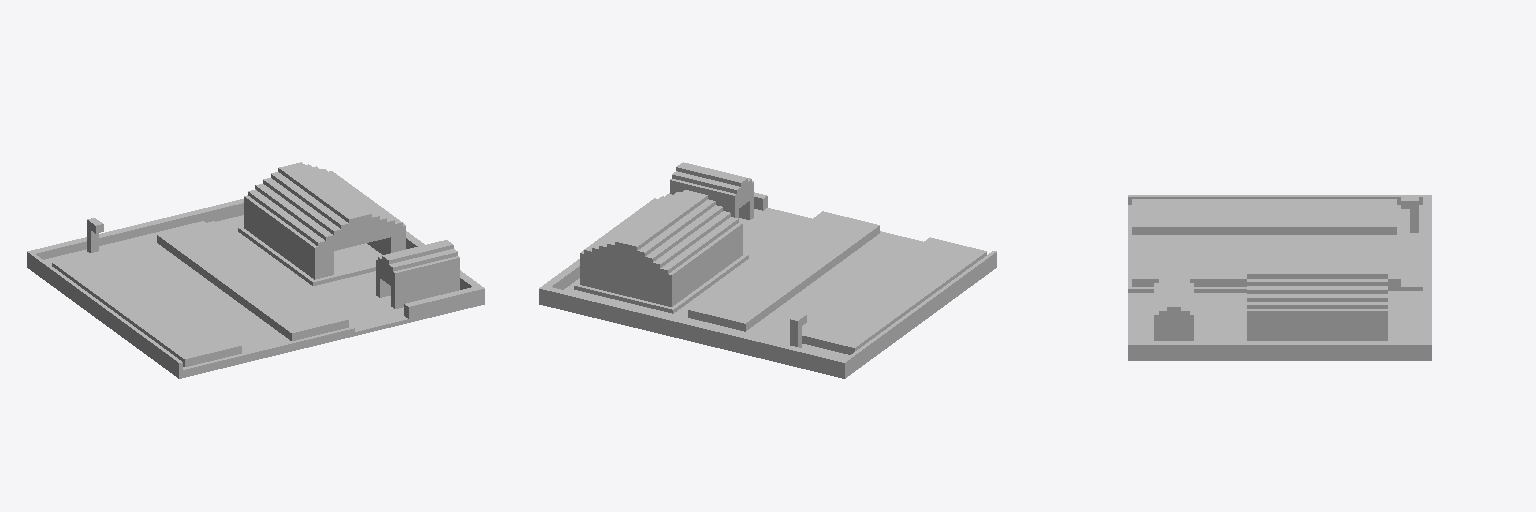
Rendered from windmill t2.obj.
3 renders of one model, left to right at view 1: azimuth 30°, elevation 25°; view 2: azimuth 150°, elevation 25°; view 3: azimuth 270°, elevation 25°, orthographic.
Visible parts, largest first — view 1: object 1; view 2: object 1; view 3: object 1.
Part boxes in pixels (x1,y1,x2,y2): object 1: (27,162,484,378); object 1: (539,162,996,378); object 1: (1128,195,1431,360).
Bounding box in the file's own units: 8 × 1.5 × 6.9.